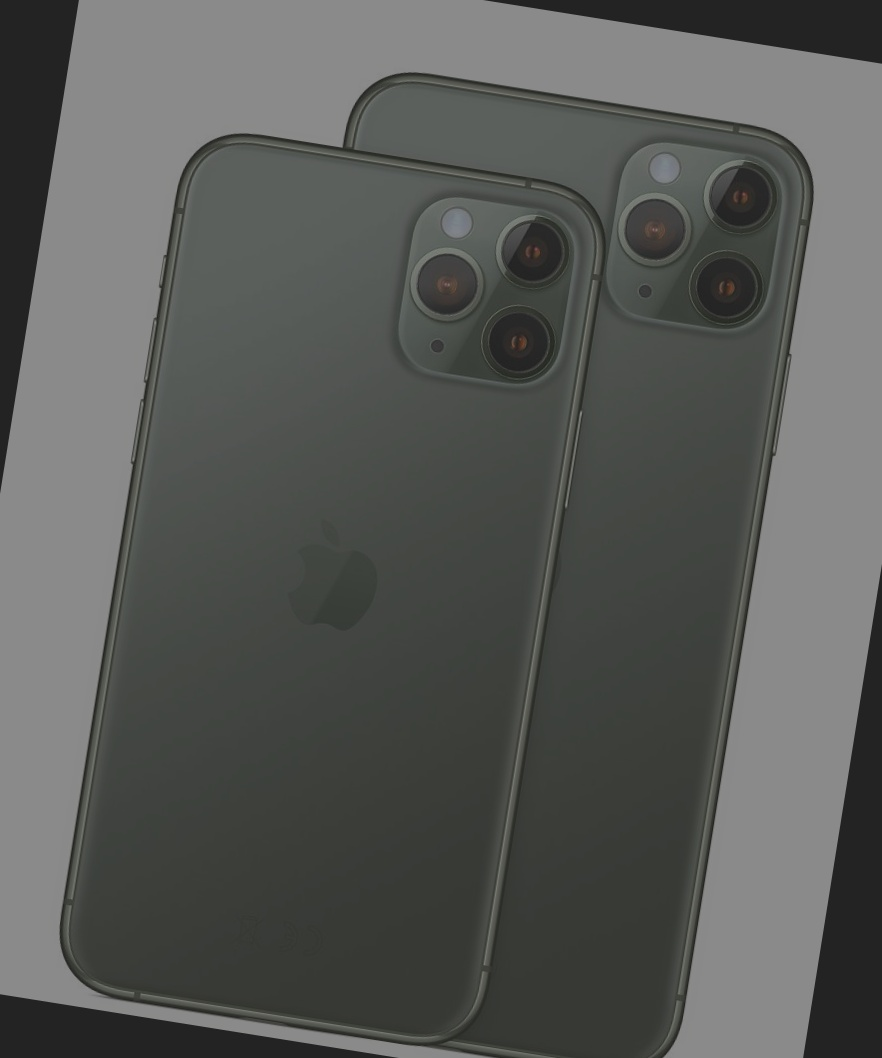iphone: (319, 169, 760, 1044)
